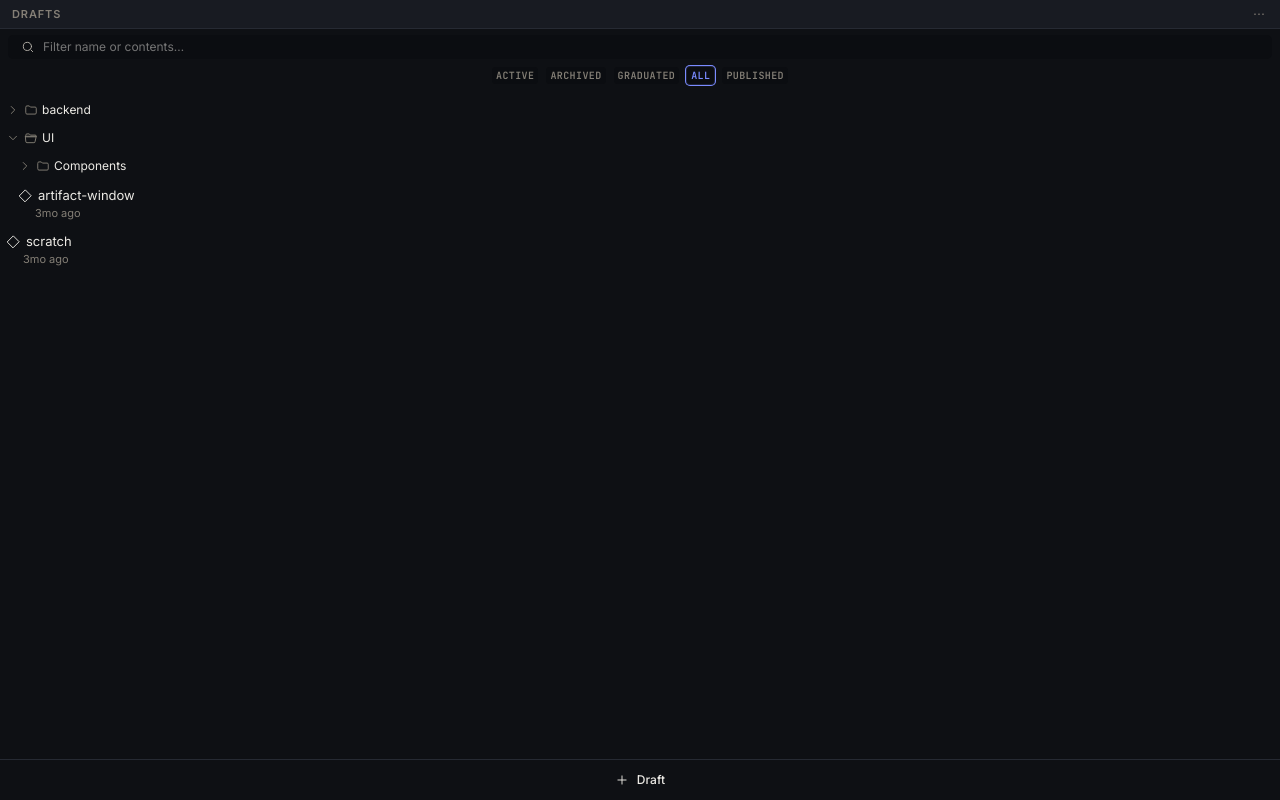
Scenario: Drafts panel (DRP-drafts-panel.md) › DRP-FR-22: menus open on right-click, and no row carries a button of its own
Expected: the text "scratch" is shown, [26, 232, 72, 252]
Right-click the list item "scratch 3mo ago": (39, 250) [6, 233, 72, 266]
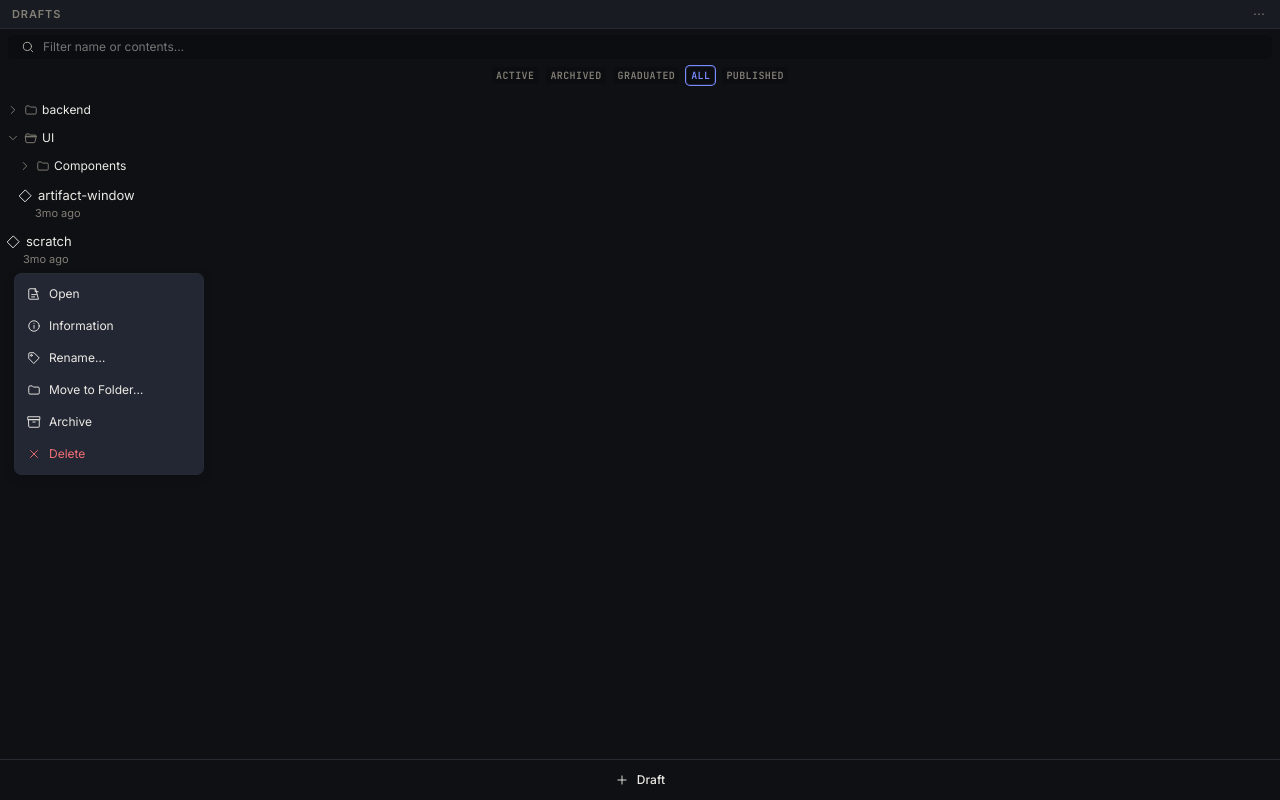
Expected: the menu items read "Open", "Information", "Rename…", "Move to Folder…", "Archive", "Delete", in this order, [27, 286, 80, 301]; [27, 318, 114, 333]; [27, 350, 105, 365]; [27, 382, 143, 397]; [27, 414, 92, 429]; [27, 446, 85, 461]
Right-click the list item "UI": (30, 138) [6, 130, 54, 145]
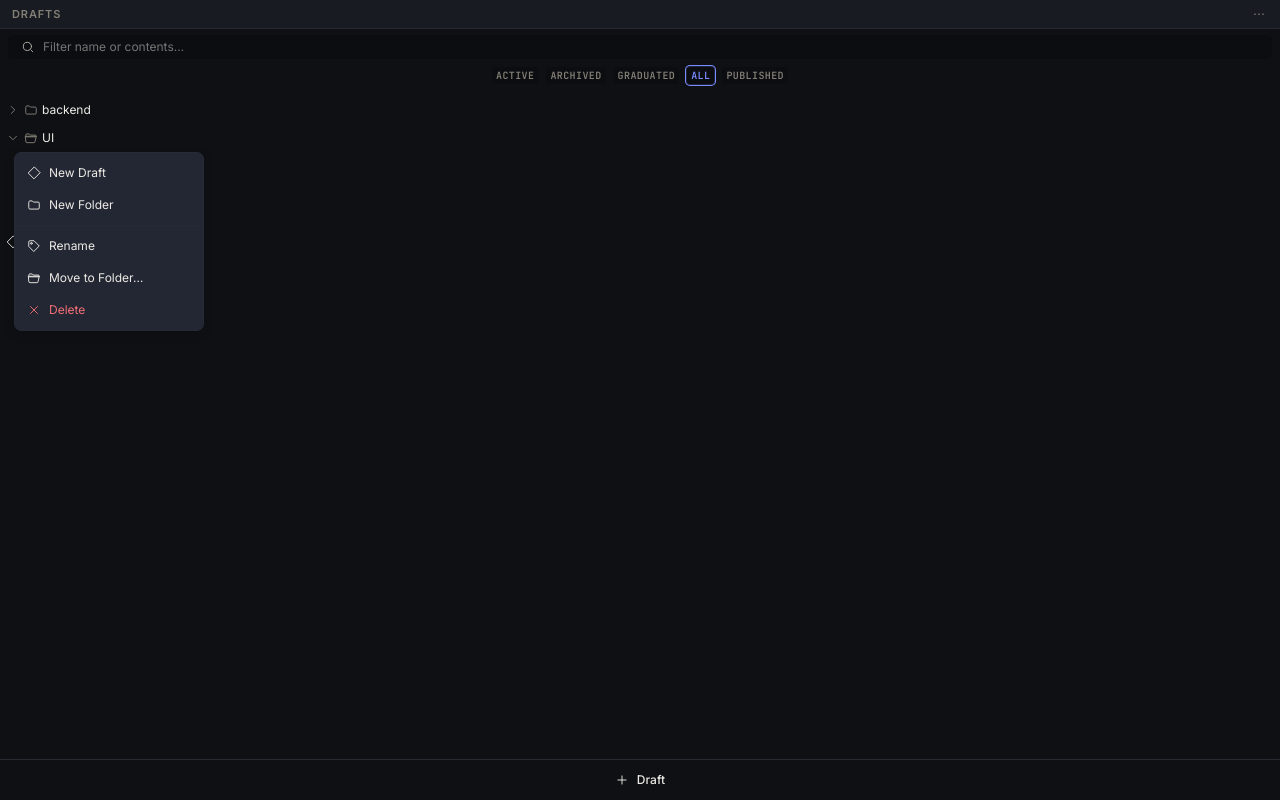
Expected: the menu items read "New Draft", "New Folder", "Rename", "Move to Folder…", "Delete", in this order, [27, 165, 106, 180]; [27, 197, 114, 212]; [27, 238, 95, 253]; [27, 270, 143, 285]; [27, 302, 85, 317]
